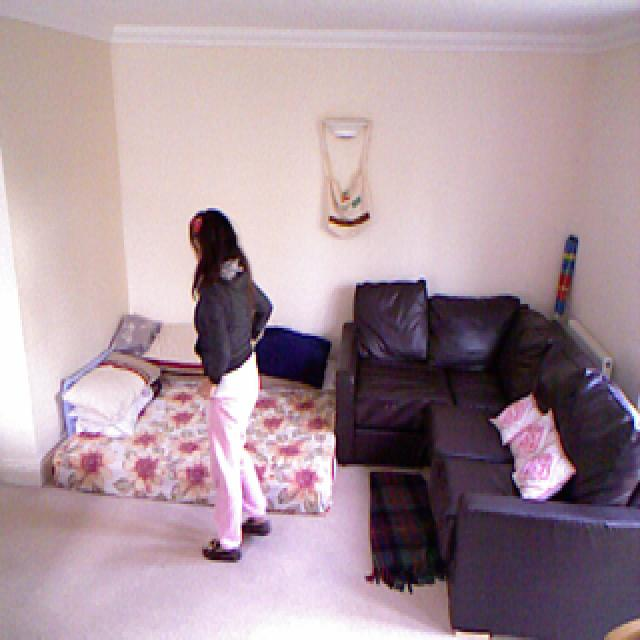standing: (189, 210, 274, 566)
